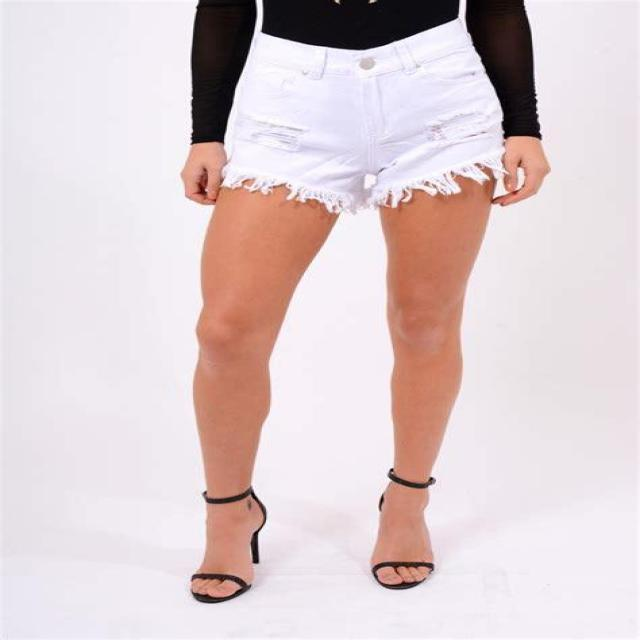short: (215, 31, 502, 213)
